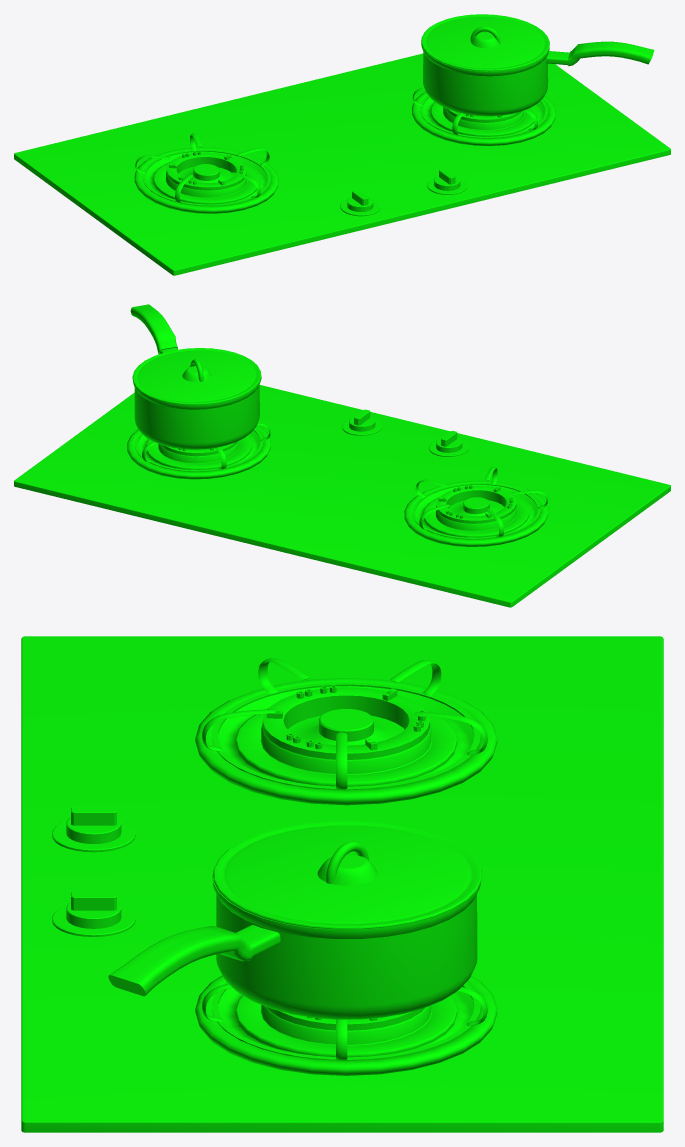
Rendered from Gas stove.fbx.
3 views of the same model, one above another, from view 1: azimuth 30°, elevation 25°; view 2: azimuth 150°, elevation 25°; view 3: azimuth 270°, elevation 25° (orthographic). The views are drawn at different scales.
Visible parts, largest first — view 1: Gas stove; view 2: Gas stove; view 3: Gas stove.
Boxes of the visible parts, x1=… form: Gas stove: x1=14, y1=14, x2=670, y2=275; Gas stove: x1=14, y1=304, x2=670, y2=607; Gas stove: x1=21, y1=636, x2=663, y2=1132.
Bounding box in the file's own units: 854 × 150 × 465.
